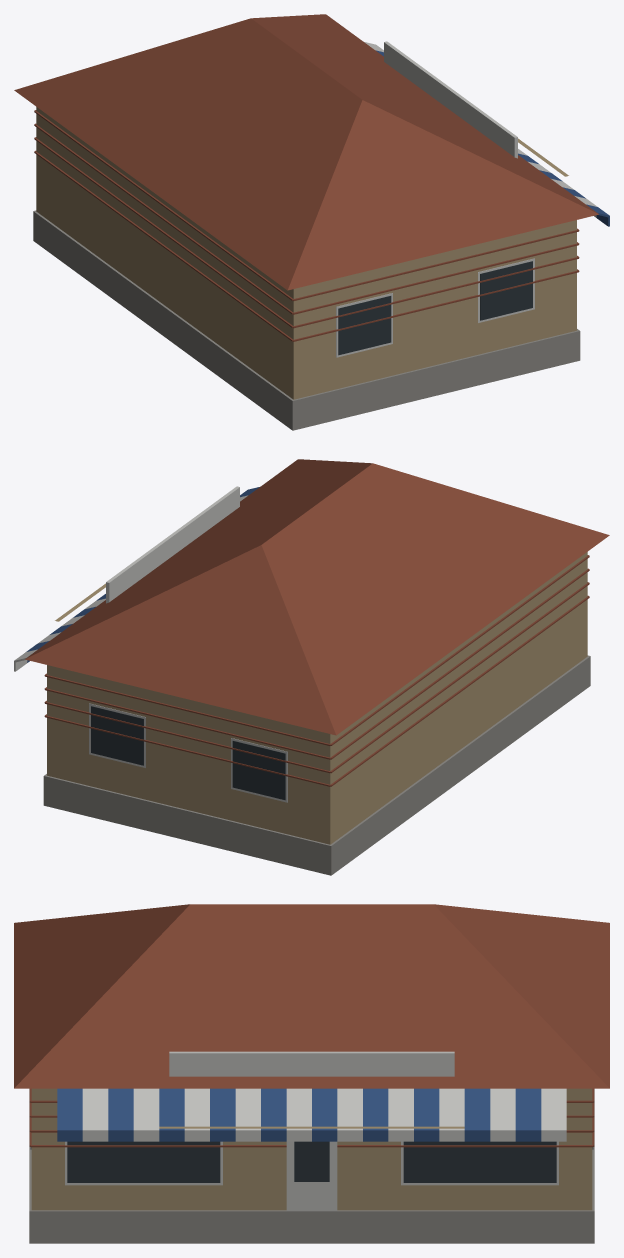
The model's file is SM_Prop_cafe_building_12_LOD1.glb.
The picture shows the model from 3 angles, top to bottom: view 1: azimuth 30°, elevation 25°; view 2: azimuth 150°, elevation 25°; view 3: azimuth 270°, elevation 25°; orthographic projection. The views are drawn at different scales.
Parts seen in each view (by area): view 1: SM_Prop_cafe_building_12_LOD1; view 2: SM_Prop_cafe_building_12_LOD1; view 3: SM_Prop_cafe_building_12_LOD1.
Boxes of the visible parts, x1=… form: SM_Prop_cafe_building_12_LOD1: x1=14, y1=14, x2=609, y2=430; SM_Prop_cafe_building_12_LOD1: x1=14, y1=459, x2=609, y2=875; SM_Prop_cafe_building_12_LOD1: x1=14, y1=904, x2=609, y2=1243.
Bounding box in the file's own units: 8.6 × 5.7 × 11.7.
